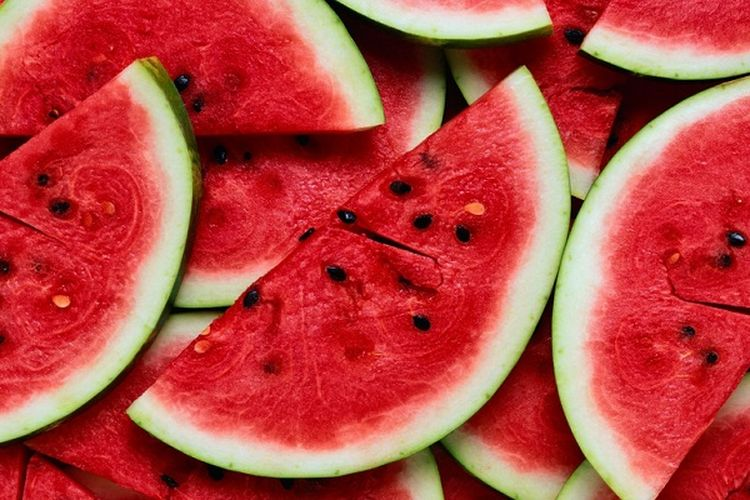Semangka: (161, 77, 583, 462), (1, 59, 207, 434), (578, 85, 748, 500)
